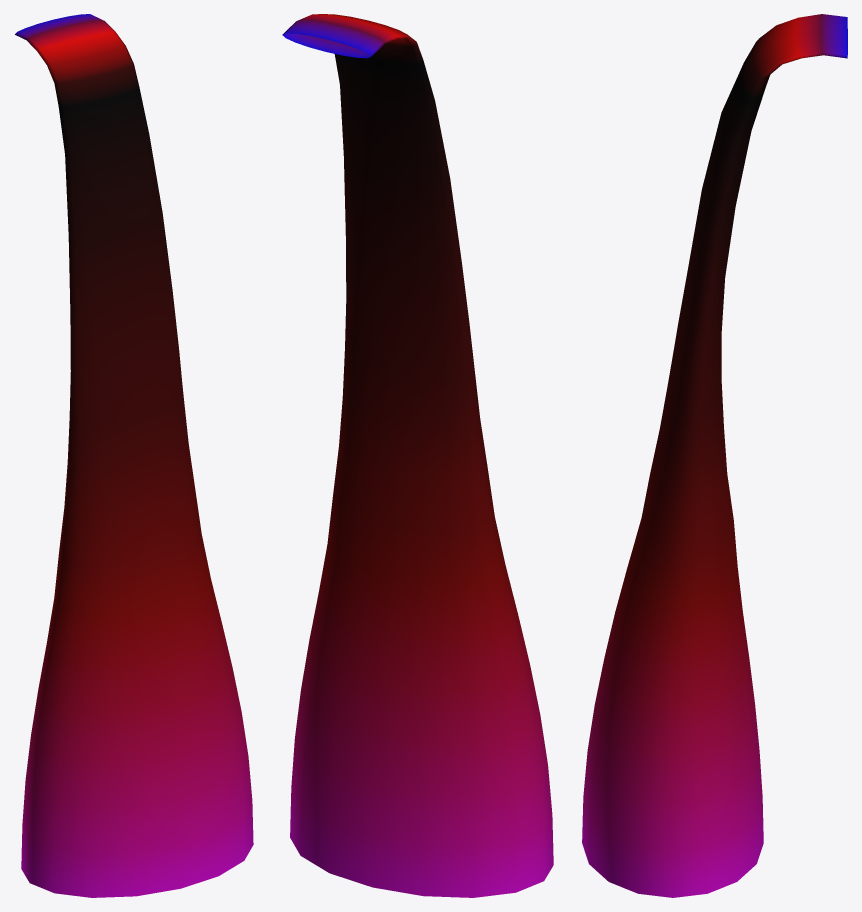
Rendered from Waterfall2.fbx.
The picture shows the model from 3 angles, left to right: view 1: azimuth 30°, elevation 25°; view 2: azimuth 150°, elevation 25°; view 3: azimuth 270°, elevation 25°; orthographic projection. The views are drawn at different scales.
Parts seen in each view (by area): view 1: pCylinder1; view 2: pCylinder1; view 3: pCylinder1.
Part boxes in pixels (left/top/right/bottom): pCylinder1: left=15, top=14, right=253, bottom=897; pCylinder1: left=282, top=14, right=553, bottom=897; pCylinder1: left=582, top=14, right=847, bottom=897.
Size of the model in its own units: 9190 by 31765 by 9404.
